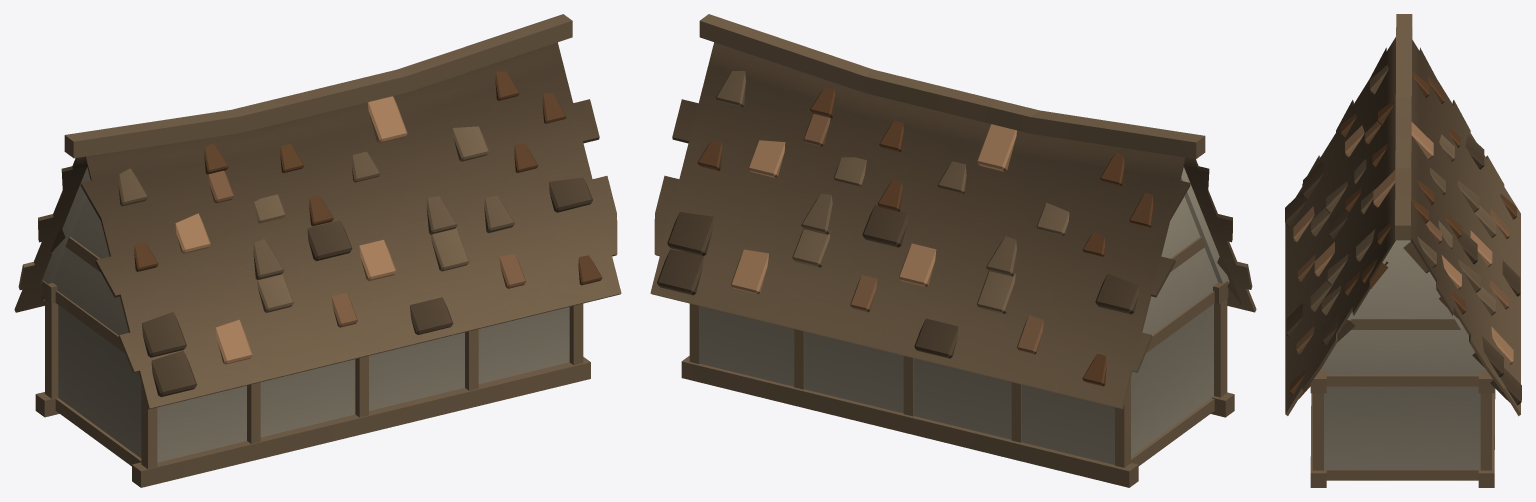
File: ZLP_Build_A_11.FBX
3 views of the same model, side by side, from view 1: azimuth 30°, elevation 25°; view 2: azimuth 150°, elevation 25°; view 3: azimuth 270°, elevation 25° (orthographic). The views are drawn at different scales.
Visible parts, largest first — view 1: ZLP_Build_A_11; view 2: ZLP_Build_A_11; view 3: ZLP_Build_A_11.
Part boxes in pixels (left/top/right/bottom): ZLP_Build_A_11: left=14, top=14, right=621, bottom=487; ZLP_Build_A_11: left=650, top=14, right=1256, bottom=487; ZLP_Build_A_11: left=1285, top=14, right=1521, bottom=487.
Size of the model in its own units: 771 by 462 by 360.
